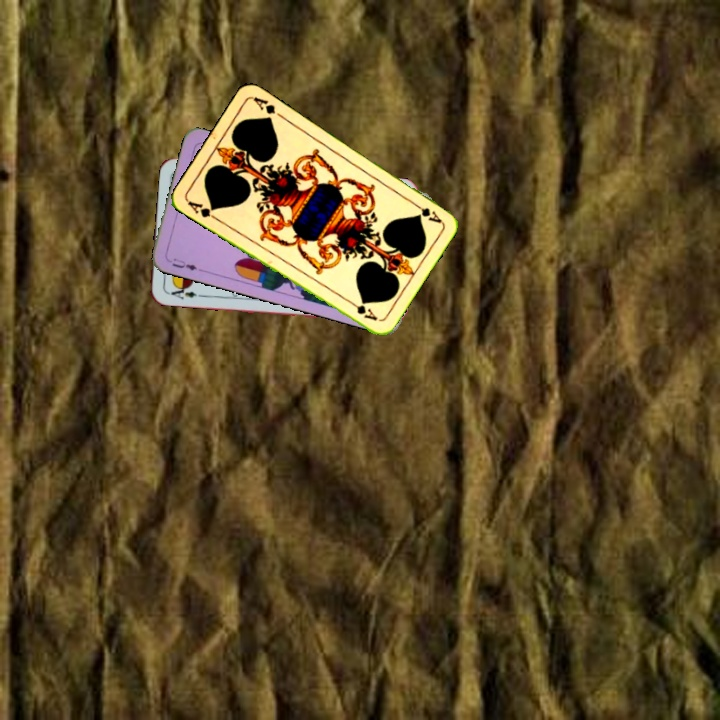EA: (163, 282, 204, 302)
EU: (168, 254, 204, 274)
GA: (408, 198, 444, 226), (183, 197, 221, 223)
